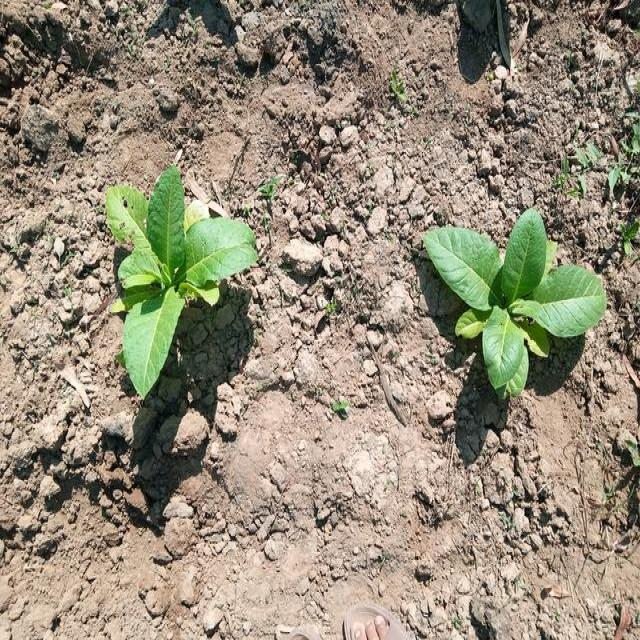crop: (418, 200, 608, 384), (102, 189, 256, 395)
